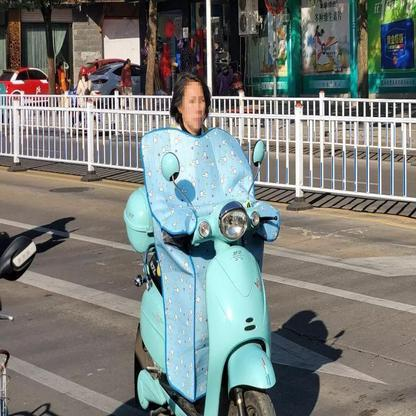target: (123, 72, 278, 413)
